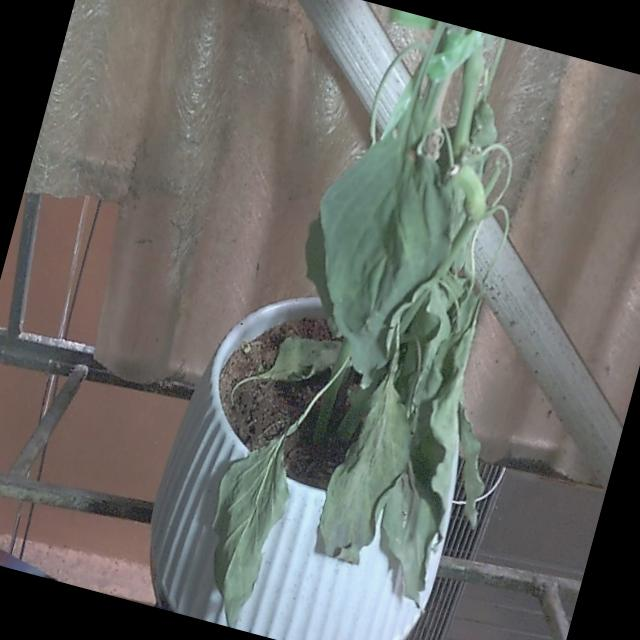Leaf: (280, 90, 478, 388), (307, 360, 432, 574), (187, 422, 300, 628)
